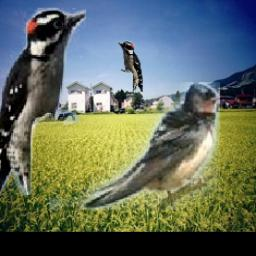Swallow: (50, 82, 221, 210)
Woodpecker: (0, 8, 87, 195), (117, 42, 143, 93)
